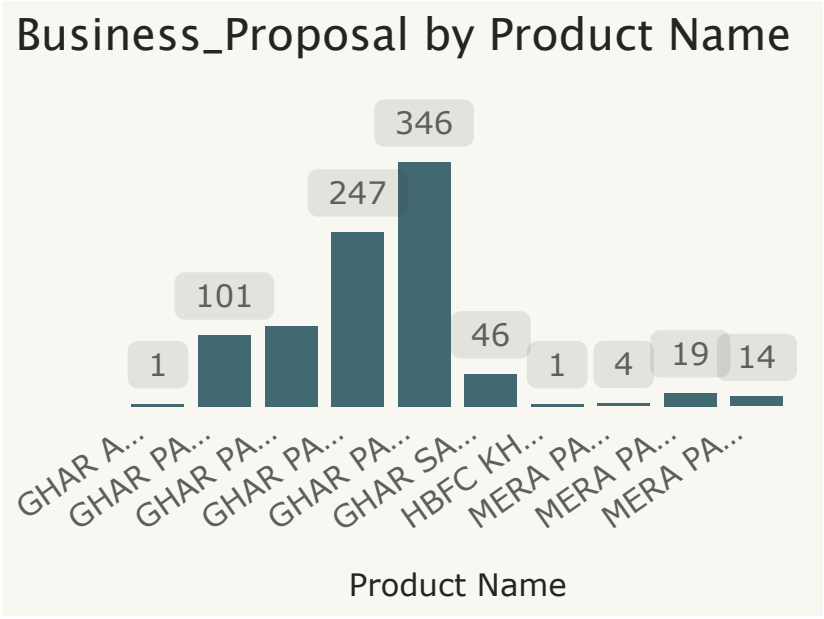

This screenshot's page, from the dashboard's own definition file:
{"tool":"powerbi","page":{"name":"Page 3","canvas":[320,240],"ordinal":2},"visuals":[{"type":"clusteredColumnChart","title":"Business_Proposal by Product Name","fields":{"Category":["Sheet1 (2).Product Name"],"Y":["Count(Sheet1 (2).BusinessProposalNo)"]},"box":[0,0,320,240],"z":0}]}

Visuals, with their boxes in screenshot pixels (x1, y1, x2, y2), scaled from the page's 320x240 canvas onto the 824x619 screenshot:
"Business_Proposal by Product Name" clusteredColumnChart: rect(0, 0, 823, 618)
